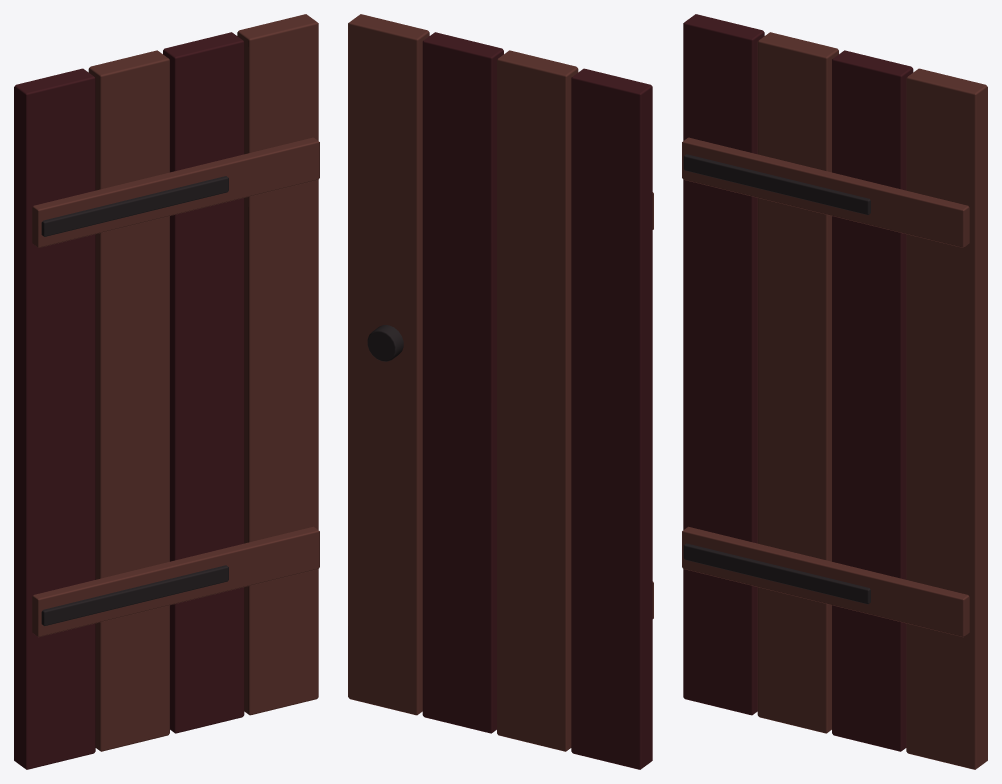
The model's file is living-cave-door-leaf.ebeb9e9e.glb.
The picture shows the model from 3 angles, left to right: view 1: azimuth 30°, elevation 25°; view 2: azimuth 150°, elevation 25°; view 3: azimuth 330°, elevation 25°; orthographic projection.
Visible parts, largest first — view 1: body; view 2: body; view 3: body.
Part boxes in pixels (x1,y1,x2,y2): body: [14, 14, 319, 769]; body: [348, 14, 653, 769]; body: [682, 14, 987, 769].
Size of the model in its own units: 0.79 by 1.74 by 0.14.
